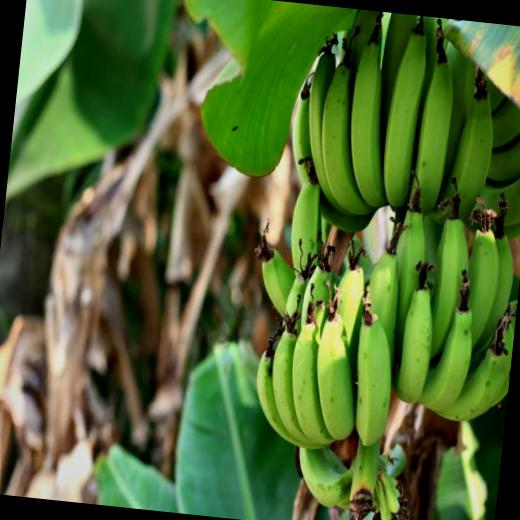Banana: (226, 1, 520, 520), (349, 287, 403, 451)
